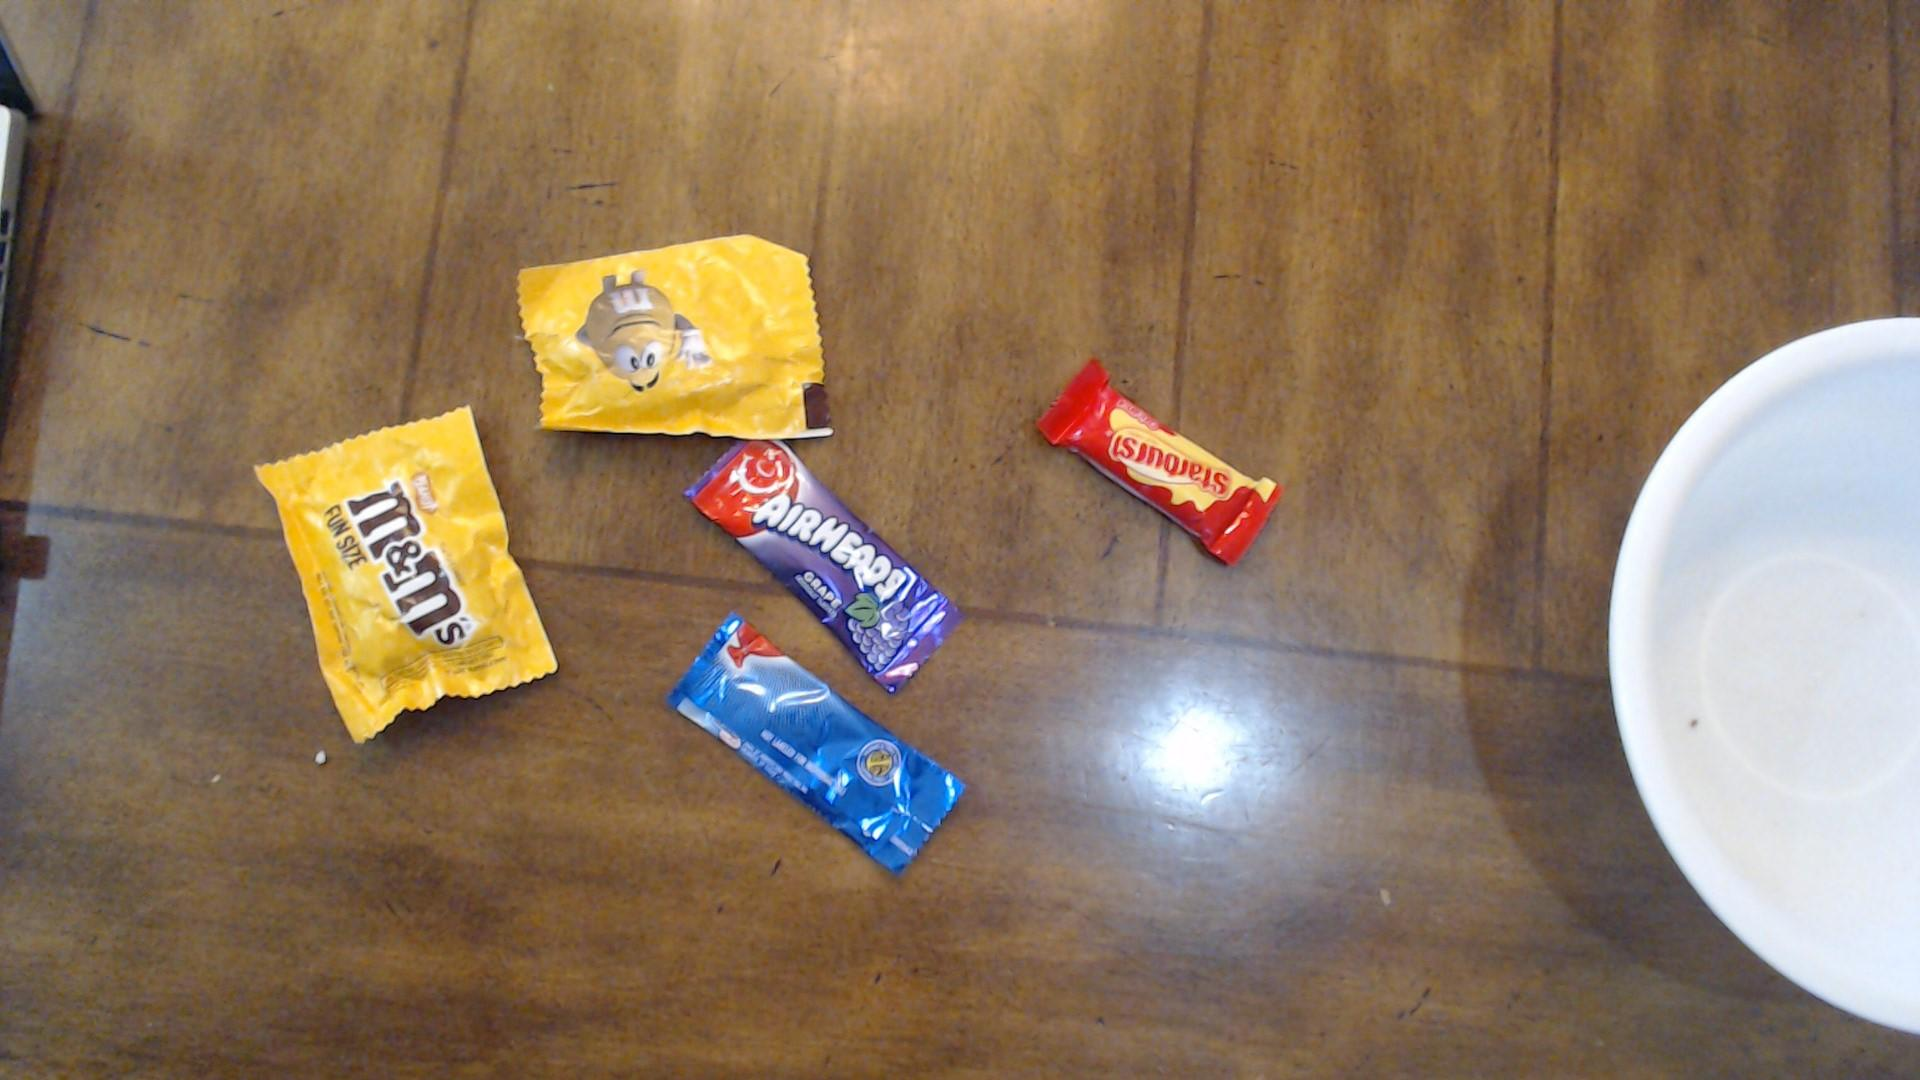MM_yellow: (220, 397, 574, 756), (501, 235, 847, 456)
airheads: (632, 604, 975, 887), (655, 436, 992, 707)
starburst: (1036, 355, 1312, 582)
